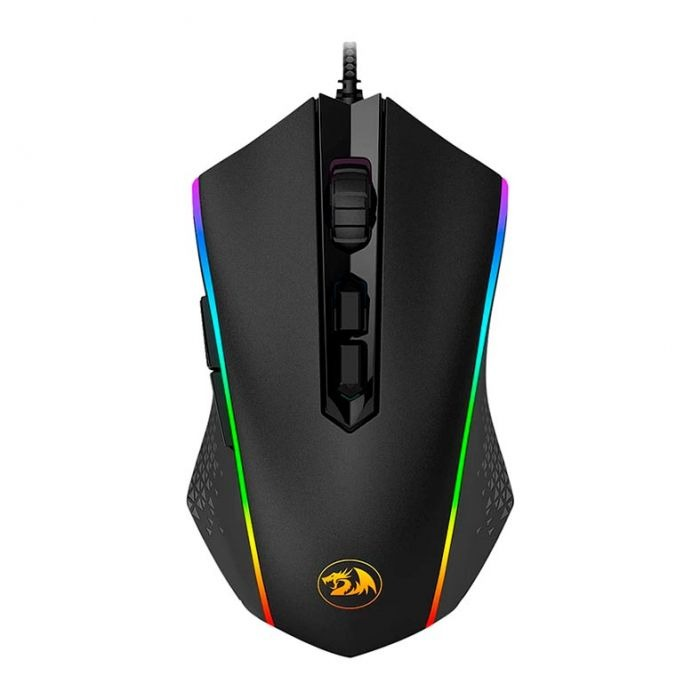mouse: (171, 78, 542, 659)
